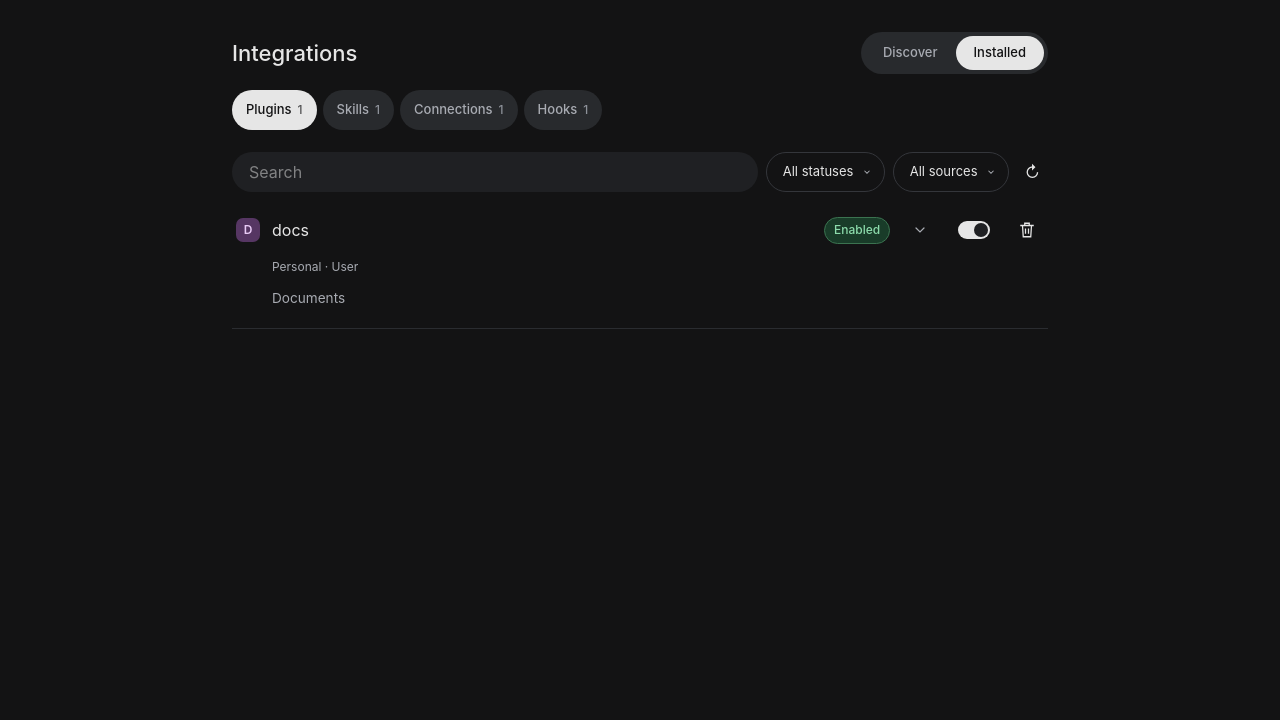
Integration browsing and lifecycle › loads saved checks before opening and keeps the skills view quiet
Expected: the button with aria-label "View docs" is shown, [272, 210, 812, 250]
What coordinates should you click on to do the following:
click the button "Discover"
I would click on:
 (910, 53)
Its box is [865, 36, 956, 70].
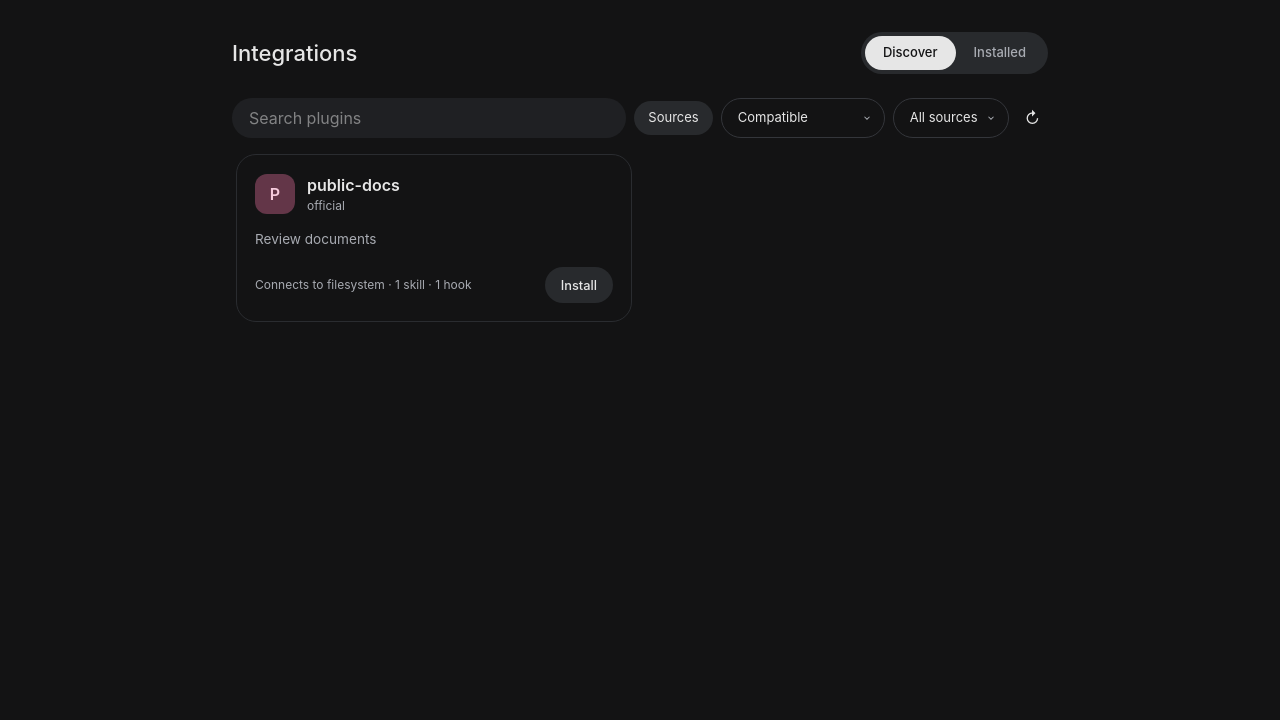
Expected: the list item named "View public-docs" shows "Connects to filesystem · 1 skill · 1 hook", [255, 277, 472, 292]
What coordinates should you click on to do the following:
click the button with aria-label "View public-docs"
I would click on:
 (353, 185)
Its box is [307, 173, 400, 197].
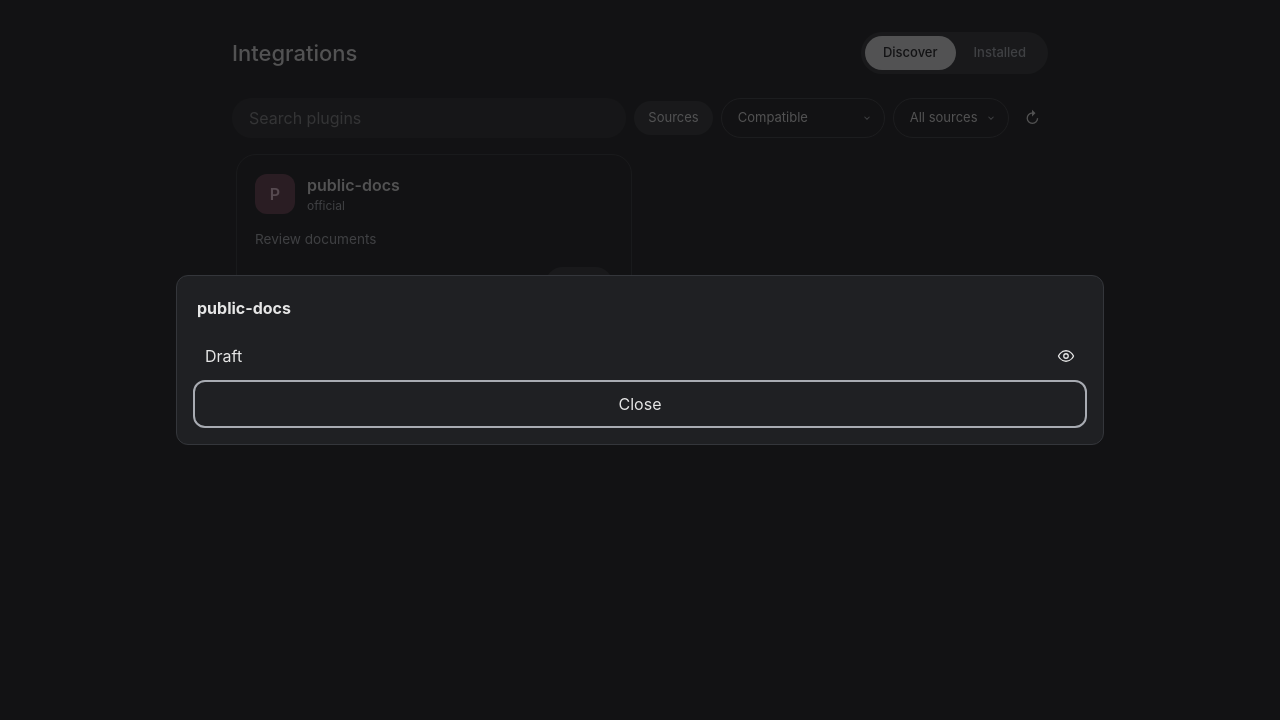
Expected: the button with aria-label "View Draft" is shown, [197, 336, 1083, 376]
